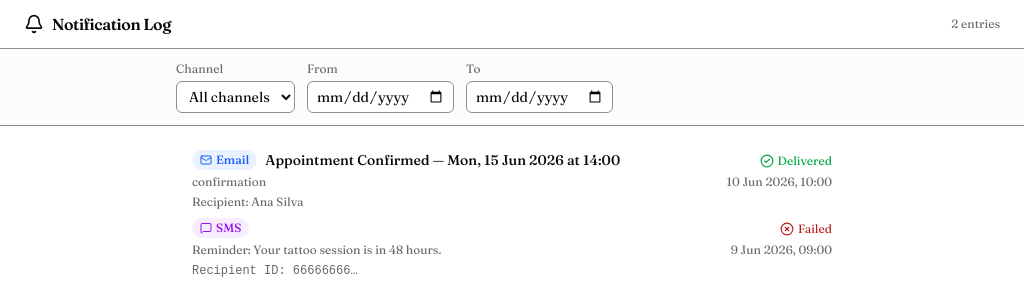
Test: NotificationLogListPage › clicking 'Clear filters' resets the channel and date filters
The image size is (1024, 294).
Select "Email" in the dropdown labelled "Channel" at coordinates (236, 97), box [176,81,295,113]
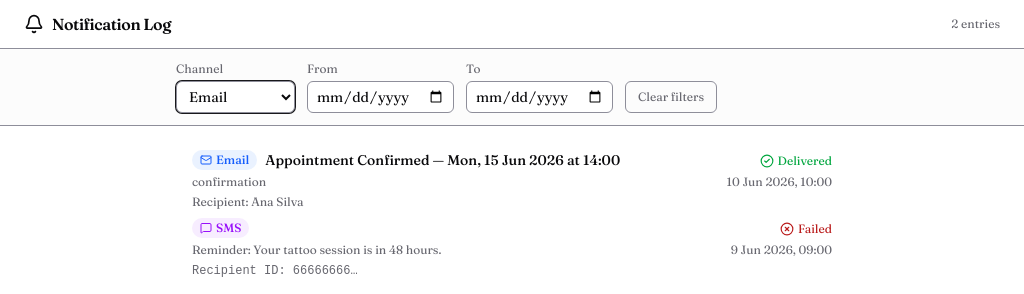
Click the button "Clear filters" at coordinates (671, 97), box [625,81,717,113]
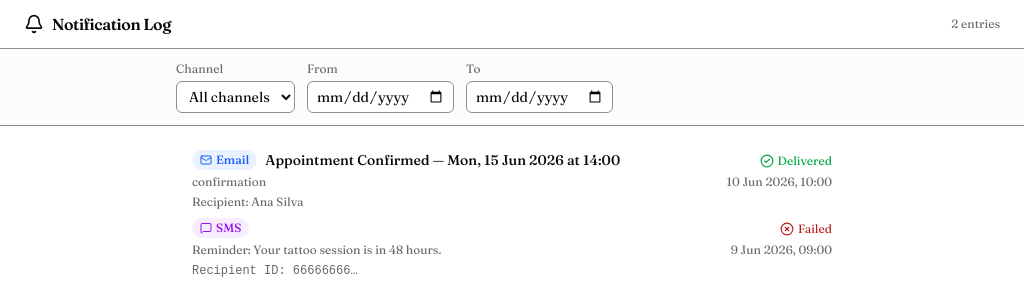
Expected: the button "Clear filters" is gone
